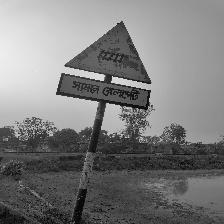Rail-crossing: (58, 21, 152, 110)
